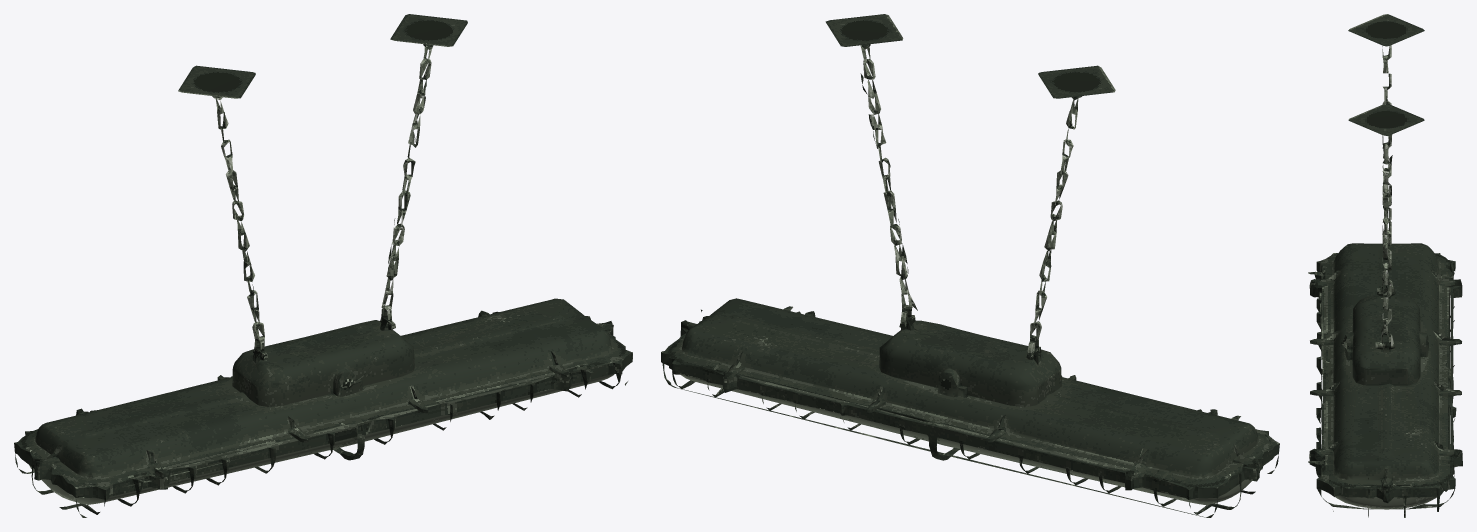
Rendered from caged_hanging_light.glb.
3 renders of one model, left to right at view 1: azimuth 30°, elevation 25°; view 2: azimuth 150°, elevation 25°; view 3: azimuth 270°, elevation 25°, orthographic. The views are drawn at different scales.
Parts seen in each view (by area): view 1: body; view 2: body; view 3: body.
Part boxes in pixels (x1,y1,x2,y2): body: (14, 14, 632, 517); body: (661, 14, 1279, 517); body: (1308, 14, 1462, 517).
Bounding box in the file's own units: 1.18 × 0.7501 × 0.3157.
1 material, 1 textured.
